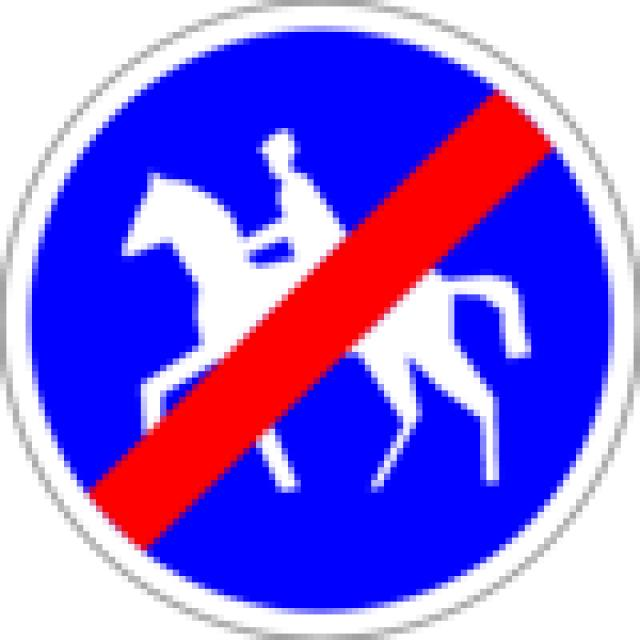end_indication: (0, 0, 637, 636)
